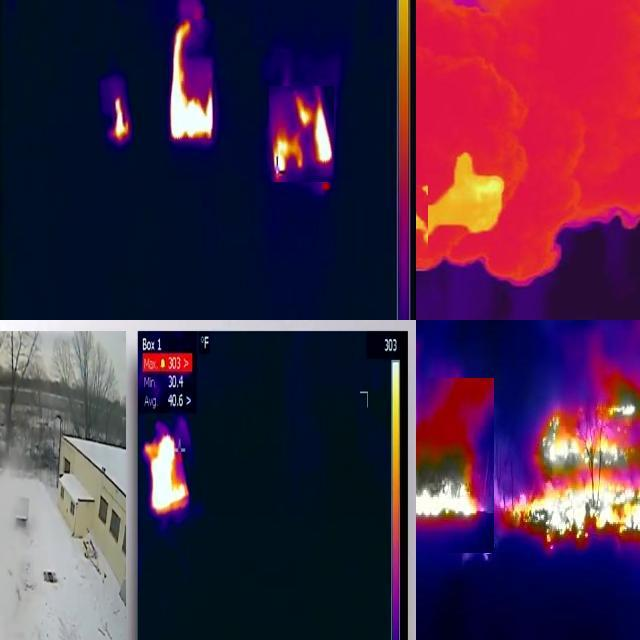fire: (503, 370, 640, 568), (417, 379, 495, 554), (426, 145, 508, 255), (270, 88, 335, 184), (171, 20, 217, 142), (148, 436, 190, 514), (111, 95, 132, 145)
